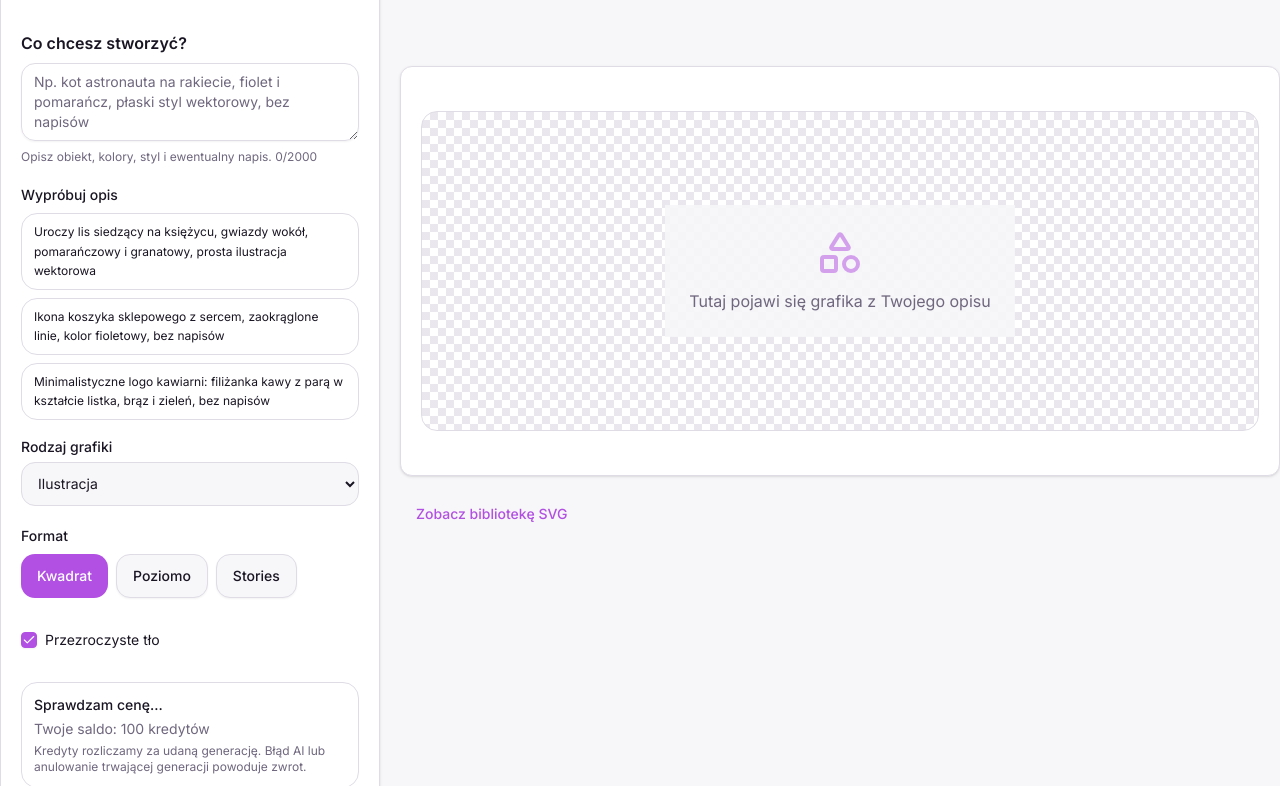
Test: keeps generation blocked when pricing is missing rather than assuming a free request
Replace the text in the text box labelled "Co chcesz stworzyć?" with "Ikona koszyka z sercem" at (190, 102), box [21, 63, 359, 141]
(page scrolled)
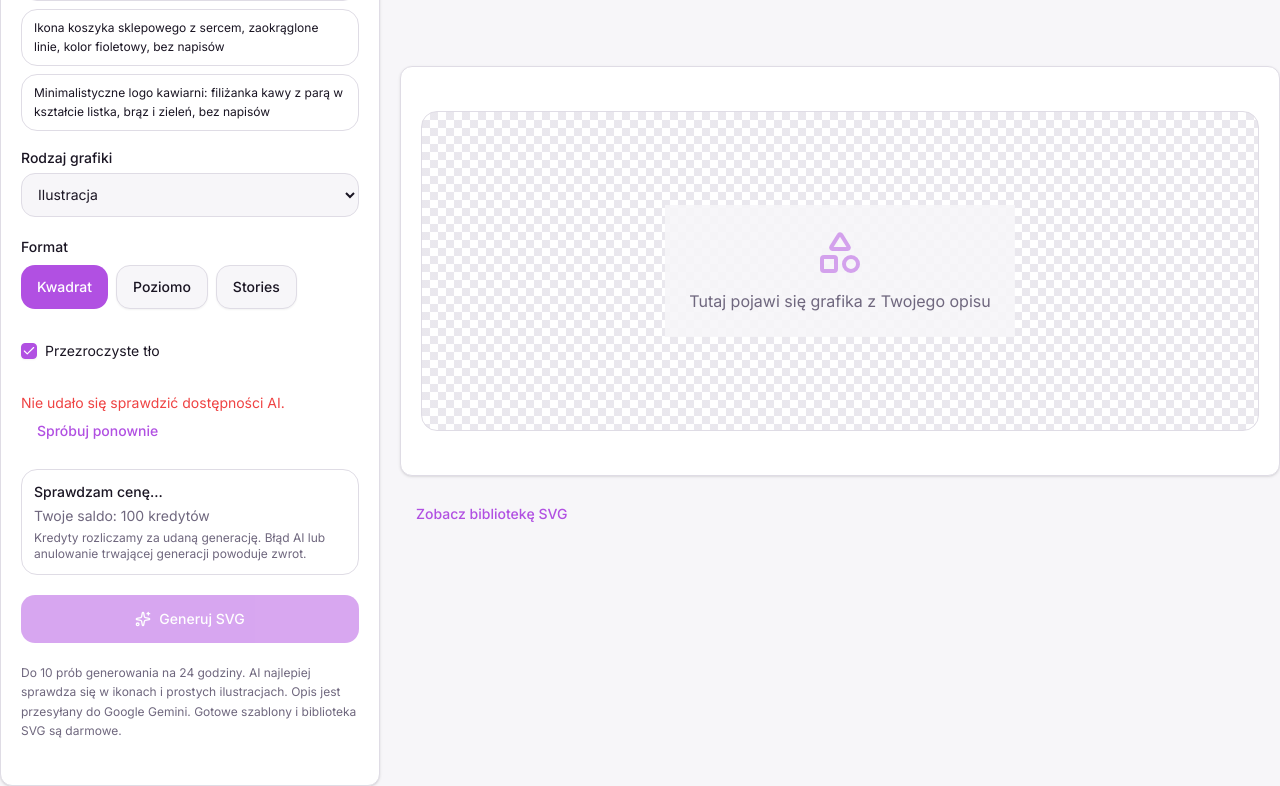
Expected: the button "Generuj SVG" is disabled, [21, 594, 359, 642]
Expected: the message "Nie udało się sprawdzić dostępności AI. Spróbuj ponownie" is shown, [21, 394, 285, 448]
